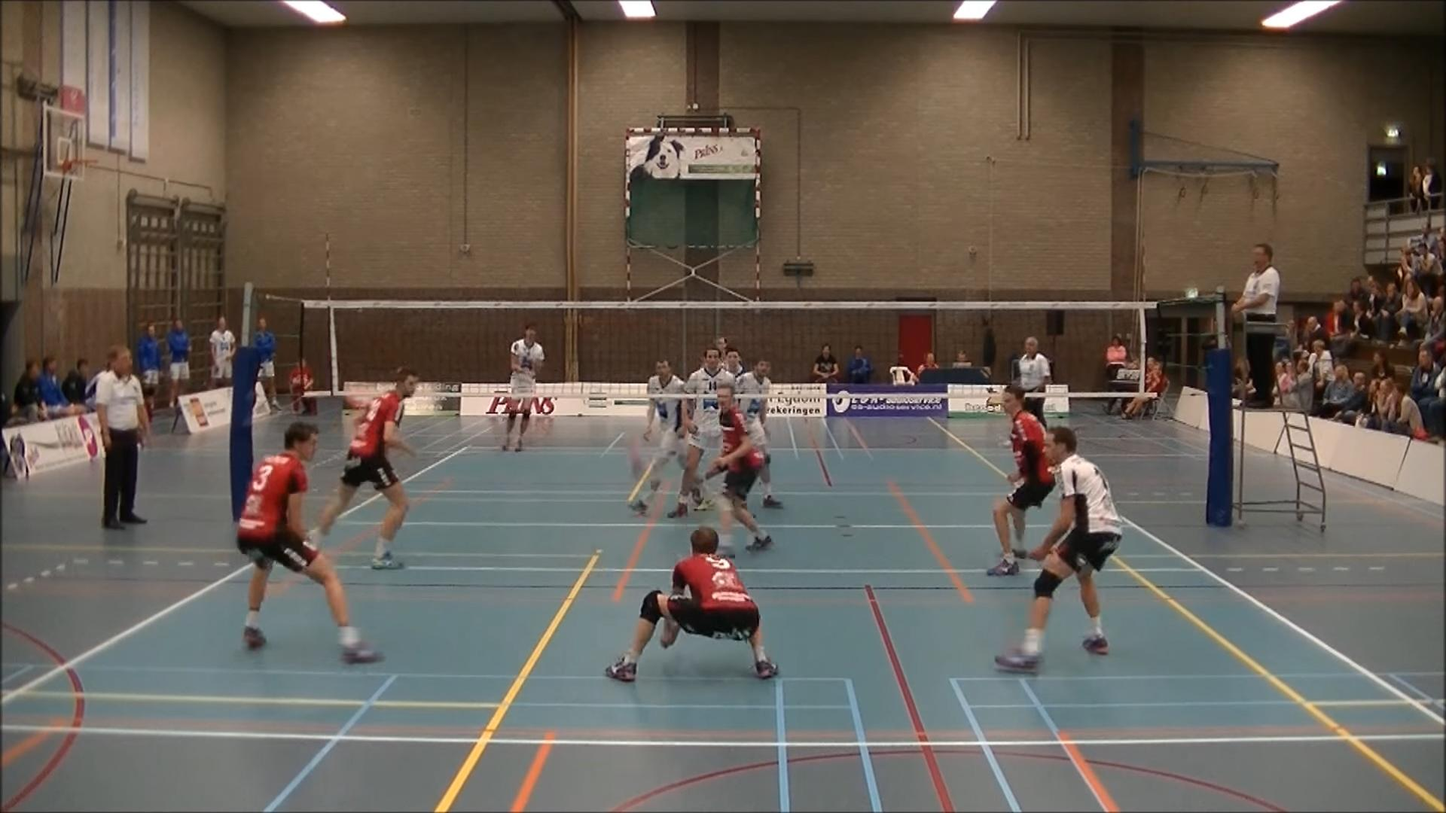Player: (238, 422, 381, 663), (995, 427, 1121, 672), (313, 367, 418, 569), (987, 384, 1054, 575), (667, 347, 734, 518), (708, 385, 772, 552), (632, 360, 685, 513), (736, 360, 782, 507), (502, 324, 545, 451), (725, 346, 745, 379)
Receive: (605, 526, 780, 684)
